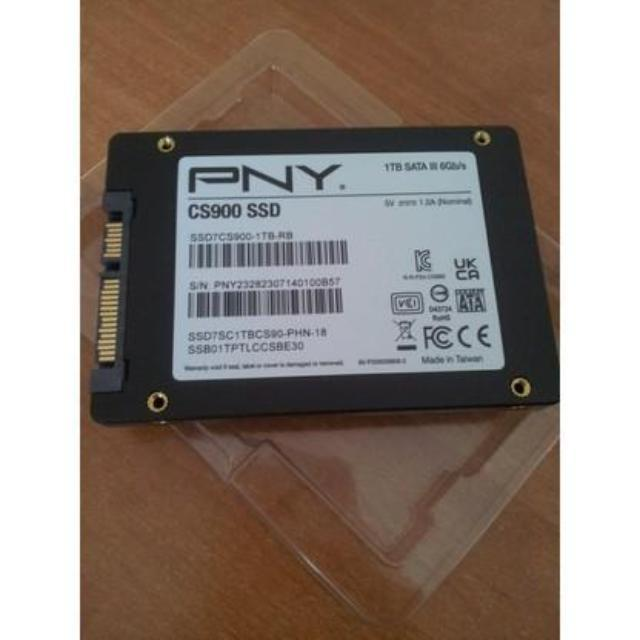DISK: (91, 126, 557, 423)
